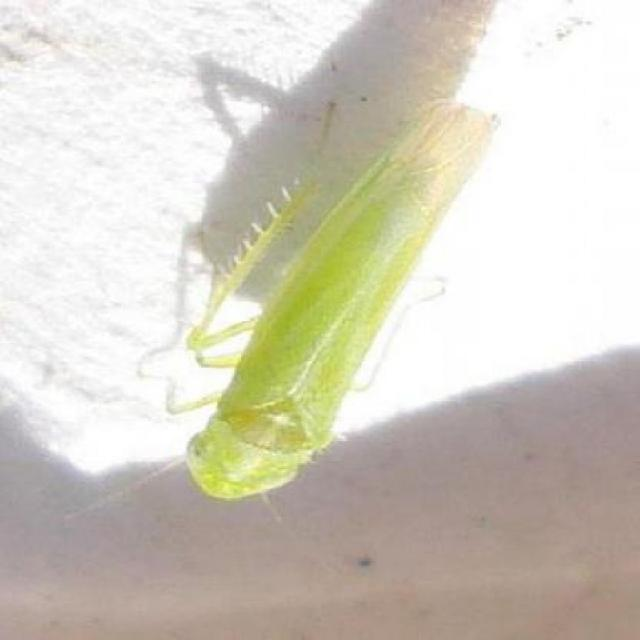green-leafhopper: (188, 108, 495, 510)
